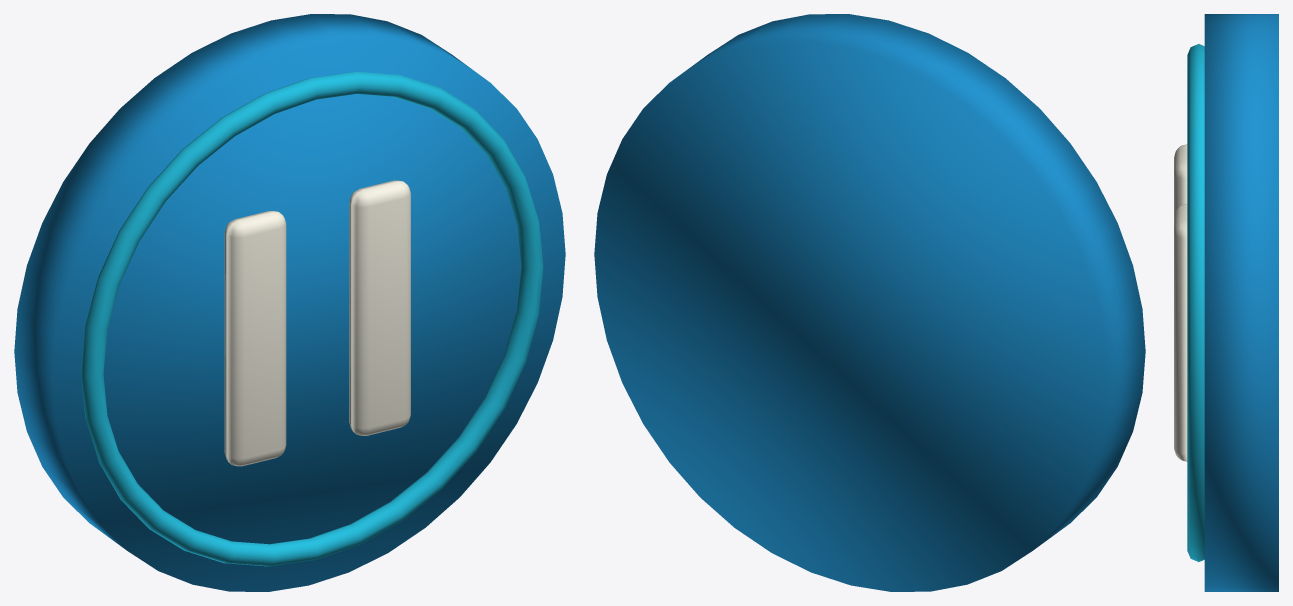
File: pause_button.glb
The picture shows the model from 3 angles, left to right: view 1: azimuth 30°, elevation 25°; view 2: azimuth 150°, elevation 25°; view 3: azimuth 270°, elevation 25°; orthographic projection. The views are drawn at different scales.
Visible parts, largest first — view 1: pause_button; view 2: pause_button; view 3: pause_button.
Part boxes in pixels (x1,y1,x2,y2): pause_button: [14, 14, 565, 591]; pause_button: [594, 14, 1145, 591]; pause_button: [1174, 14, 1278, 591].
Size of the model in its own units: 0.7 by 0.7 by 0.127.
